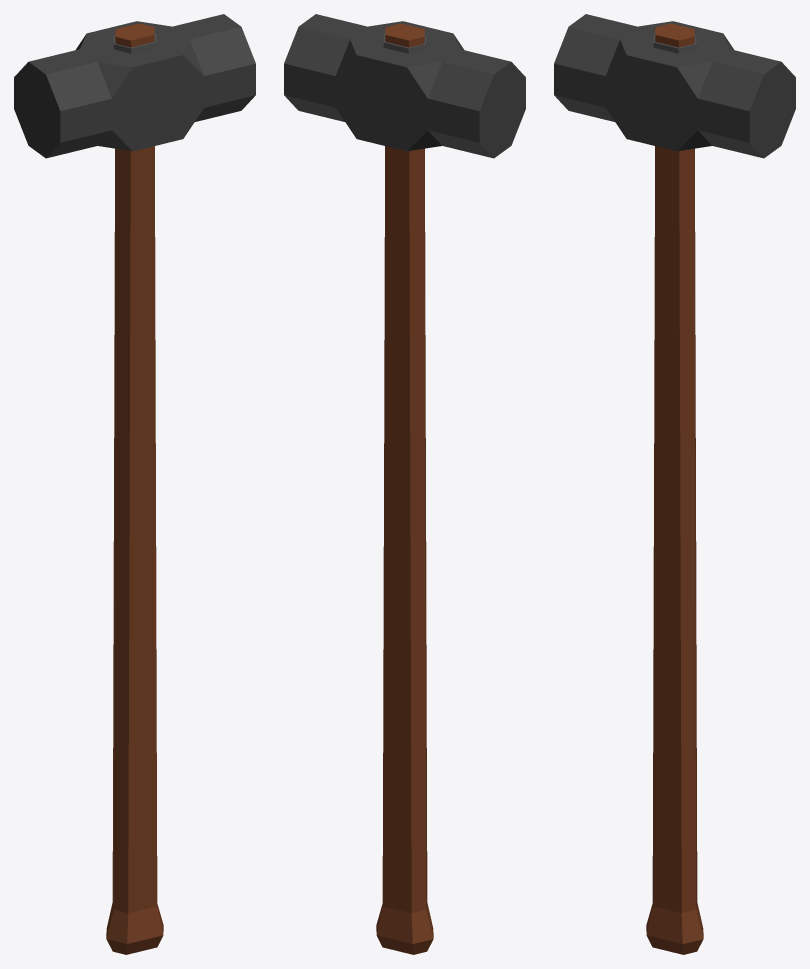
The model's file is Sledgehammer.fbx.
3 renders of one model, left to right at view 1: azimuth 30°, elevation 25°; view 2: azimuth 150°, elevation 25°; view 3: azimuth 330°, elevation 25°, orthographic.
Parts seen in each view (by area): view 1: Hammer; view 2: Hammer; view 3: Hammer.
Part boxes in pixels (<box>): Hammer: <box>14,14,255,954</box>; Hammer: <box>284,14,525,954</box>; Hammer: <box>554,14,795,954</box>.
Bounding box in the file's own units: 0.1608 × 0.066 × 0.718.
